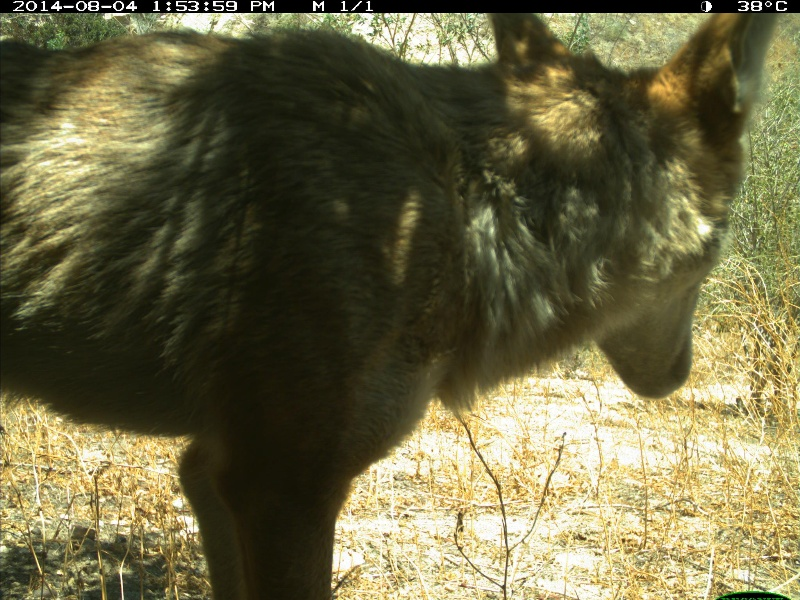coyote: (1, 16, 786, 595)
